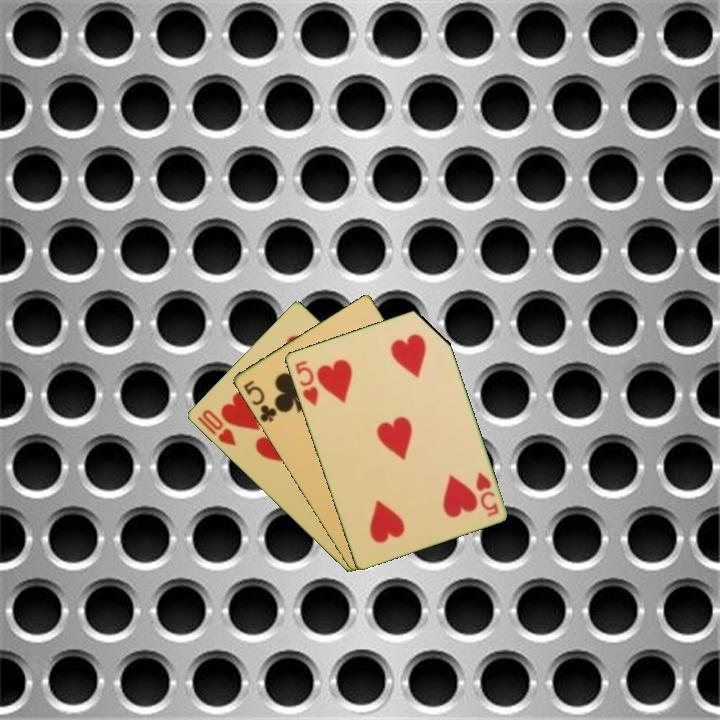10h: (194, 406, 239, 449)
5c: (239, 376, 279, 425)
5h: (291, 357, 321, 408), (472, 468, 501, 519)
